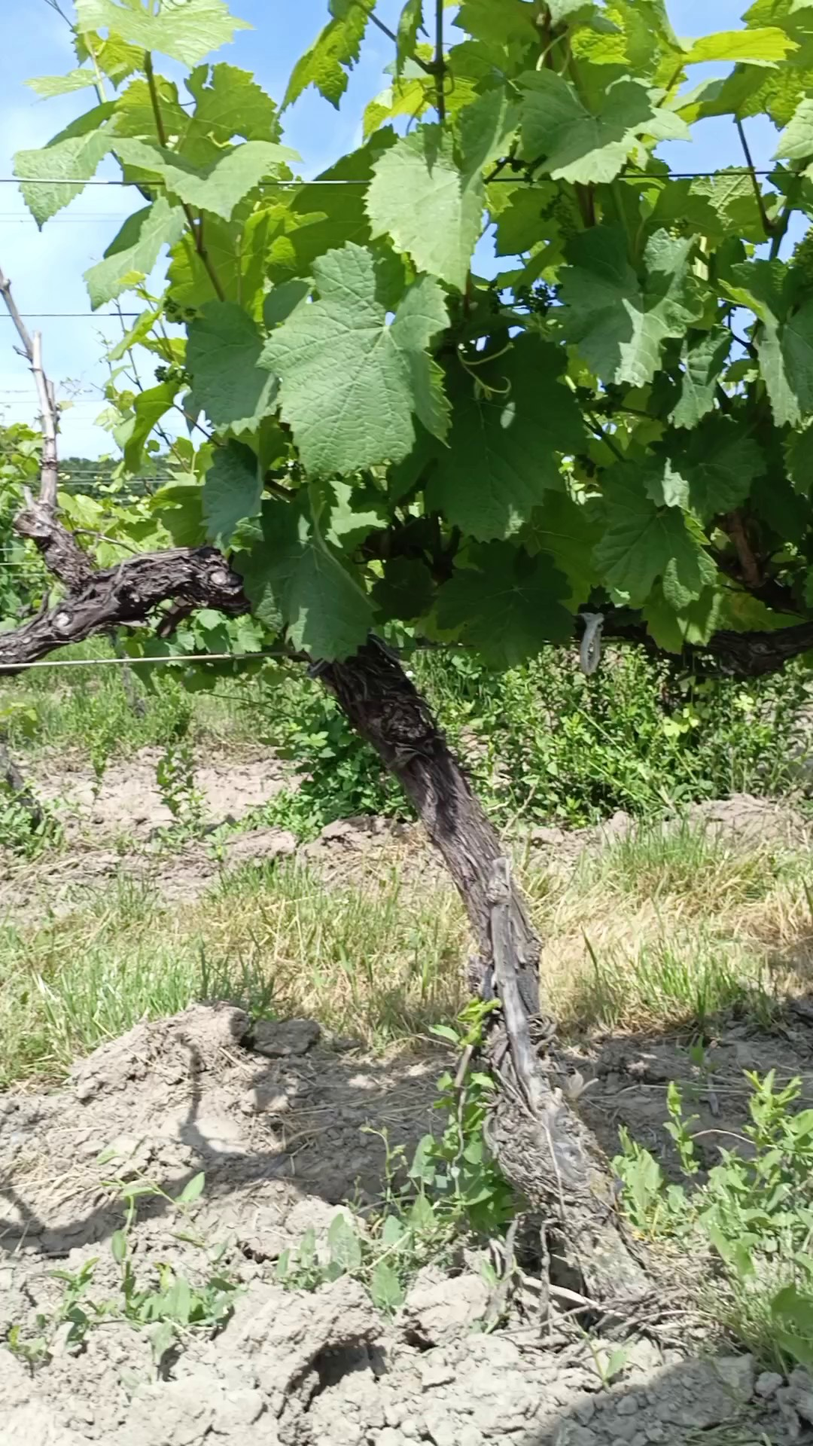vine_trunk: (325, 641, 646, 1300)
